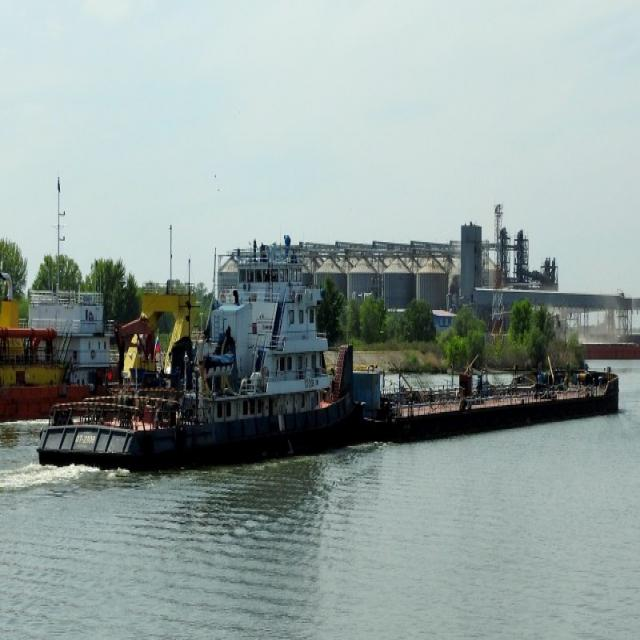tugboat: (35, 249, 369, 481)
